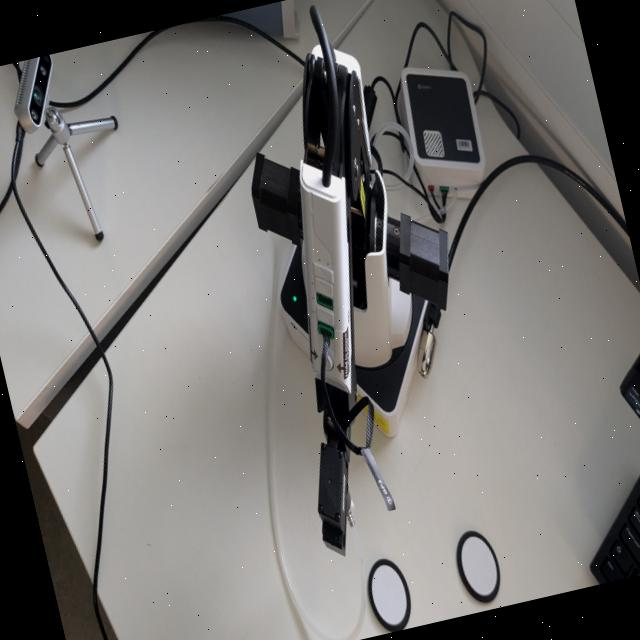Robot-end-effector-HF8z: (299, 434, 371, 564)
